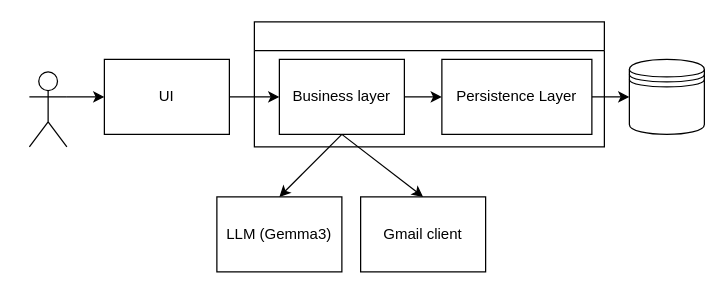
The diagram is 726 pixels wide and 294 high, and some of its shapes have lost their labels. Here are the shapes that lost their labels. From the top down, the box of each, then its label:
(253, 21, 604, 147): Python script
(628, 58, 704, 134): Database
(28, 71, 67, 147): Carmen
